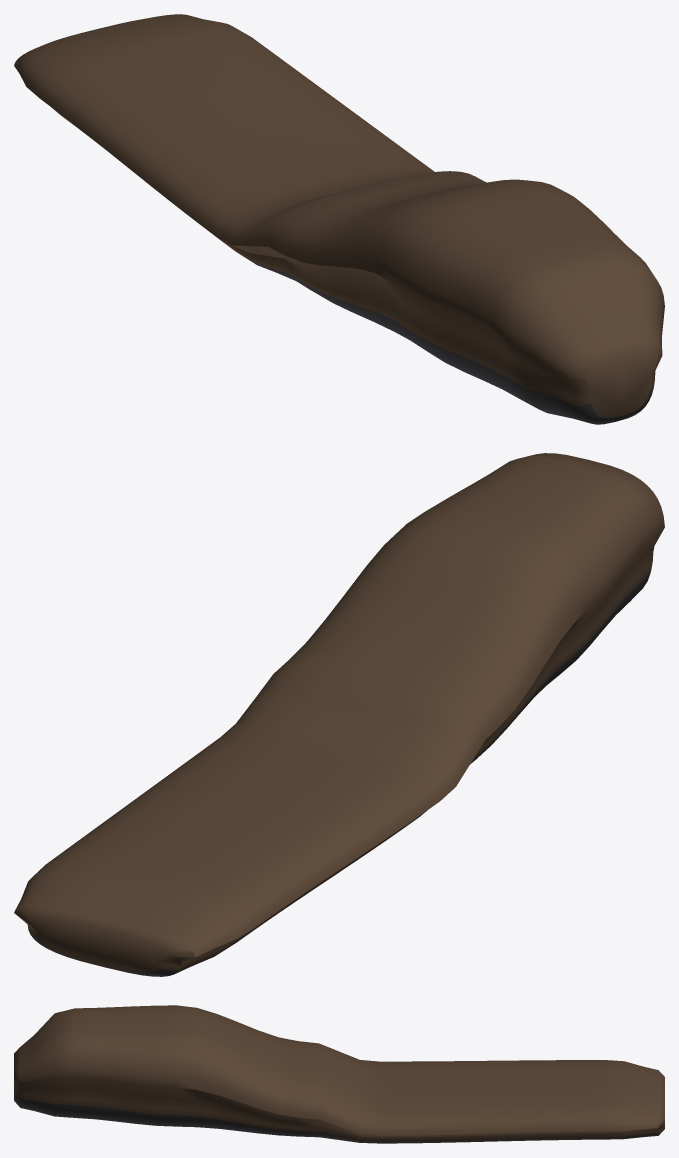
Rendered from hump_long.glb.
The picture shows the model from 3 angles, top to bottom: view 1: azimuth 30°, elevation 25°; view 2: azimuth 150°, elevation 25°; view 3: azimuth 270°, elevation 25°; orthographic projection. The views are drawn at different scales.
Parts seen in each view (by area): view 1: lod0; view 2: lod0; view 3: lod0.
Boxes of the visible parts, <box> form: lod0: <box>14,14,664,424</box>; lod0: <box>14,453,664,976</box>; lod0: <box>14,1005,664,1143</box>.
Size of what is drawn, in the model's own units: 0.2492 by 0.175 by 1.
